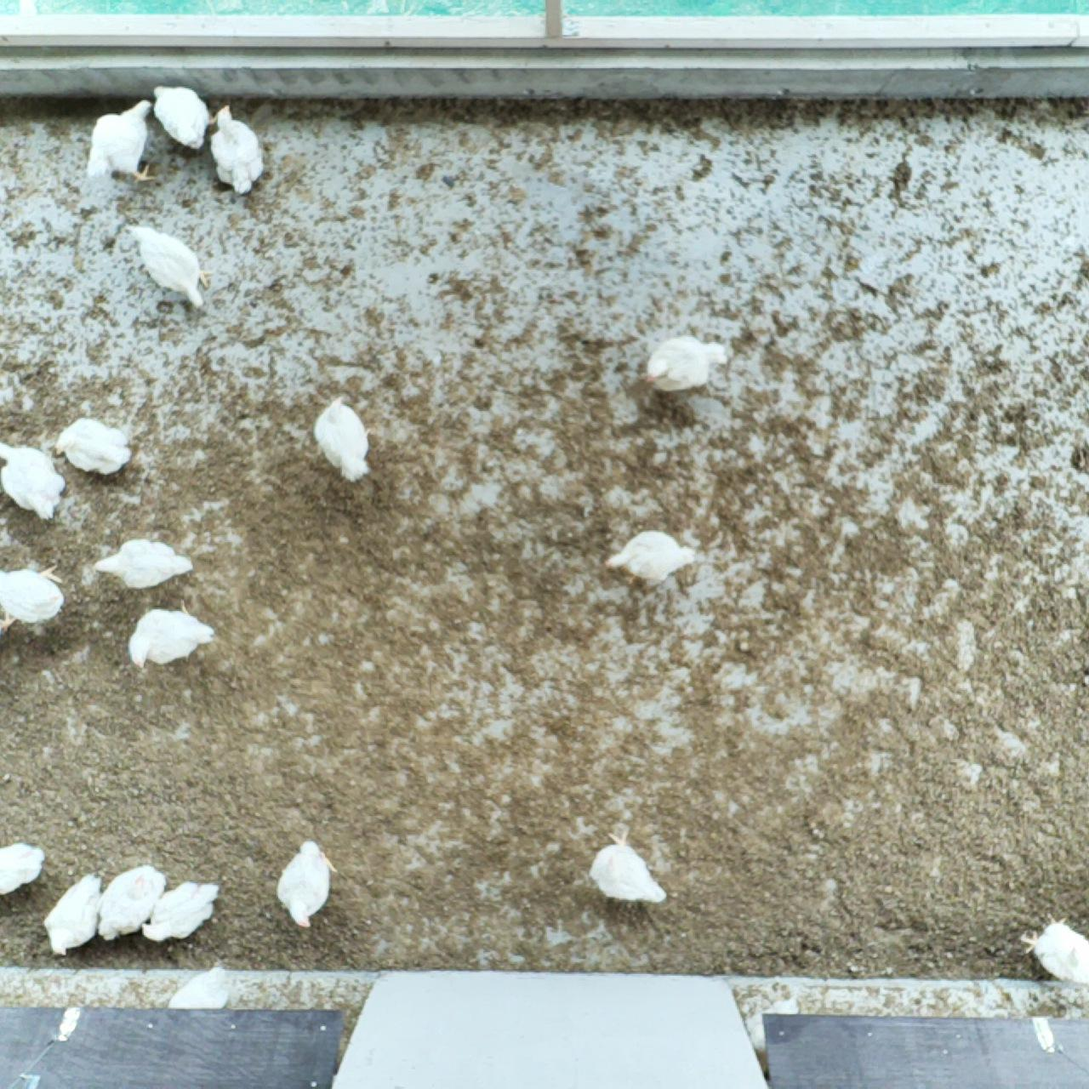chicken: (123, 599, 223, 673), (126, 223, 212, 308), (589, 830, 671, 909), (276, 835, 344, 928), (607, 526, 698, 594), (51, 413, 140, 479), (87, 98, 156, 182), (207, 104, 268, 199), (97, 866, 172, 943), (642, 332, 730, 396), (313, 393, 375, 483), (0, 442, 68, 524), (141, 878, 220, 948), (94, 537, 197, 590), (41, 875, 101, 959), (1021, 913, 1089, 986), (145, 78, 212, 151), (0, 561, 67, 631), (0, 835, 50, 900)
